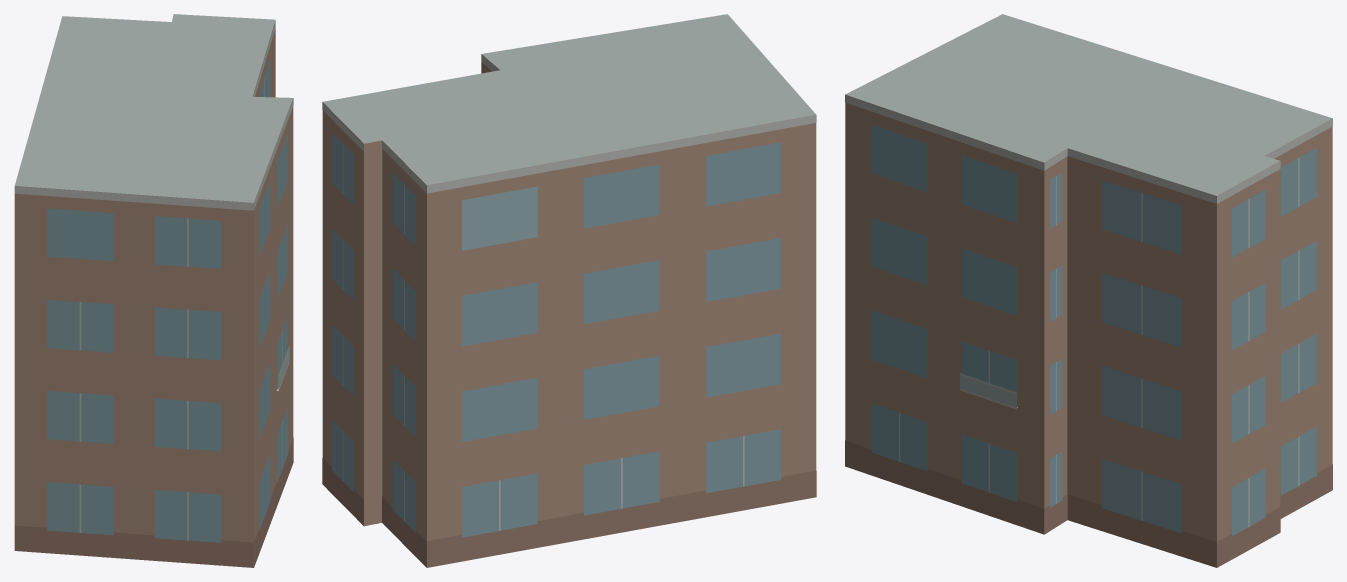
Rendered from survey-upis-33038290.glb.
3 views of the same model, side by side, from view 1: azimuth 30°, elevation 25°; view 2: azimuth 150°, elevation 25°; view 3: azimuth 270°, elevation 25° (orthographic). The views are drawn at different scales.
Parts seen in each view (by area): view 1: survey-upis-33038290.tmp; view 2: survey-upis-33038290.tmp; view 3: survey-upis-33038290.tmp.
Boxes of the visible parts, x1=… form: survey-upis-33038290.tmp: x1=14, y1=14, x2=293, y2=567; survey-upis-33038290.tmp: x1=322, y1=14, x2=816, y2=567; survey-upis-33038290.tmp: x1=845, y1=14, x2=1332, y2=567.
Size of the model in its own units: 11.98 by 11.4 by 13.56.
